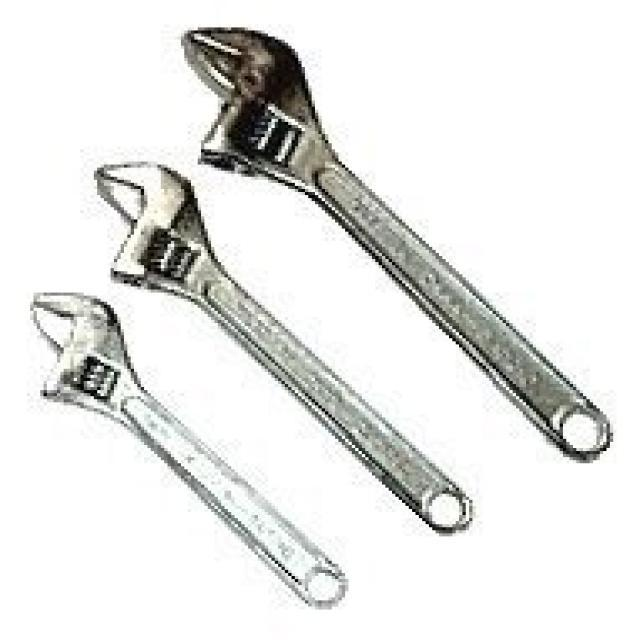wrench: (178, 18, 617, 466), (84, 150, 482, 540), (21, 280, 354, 616)
